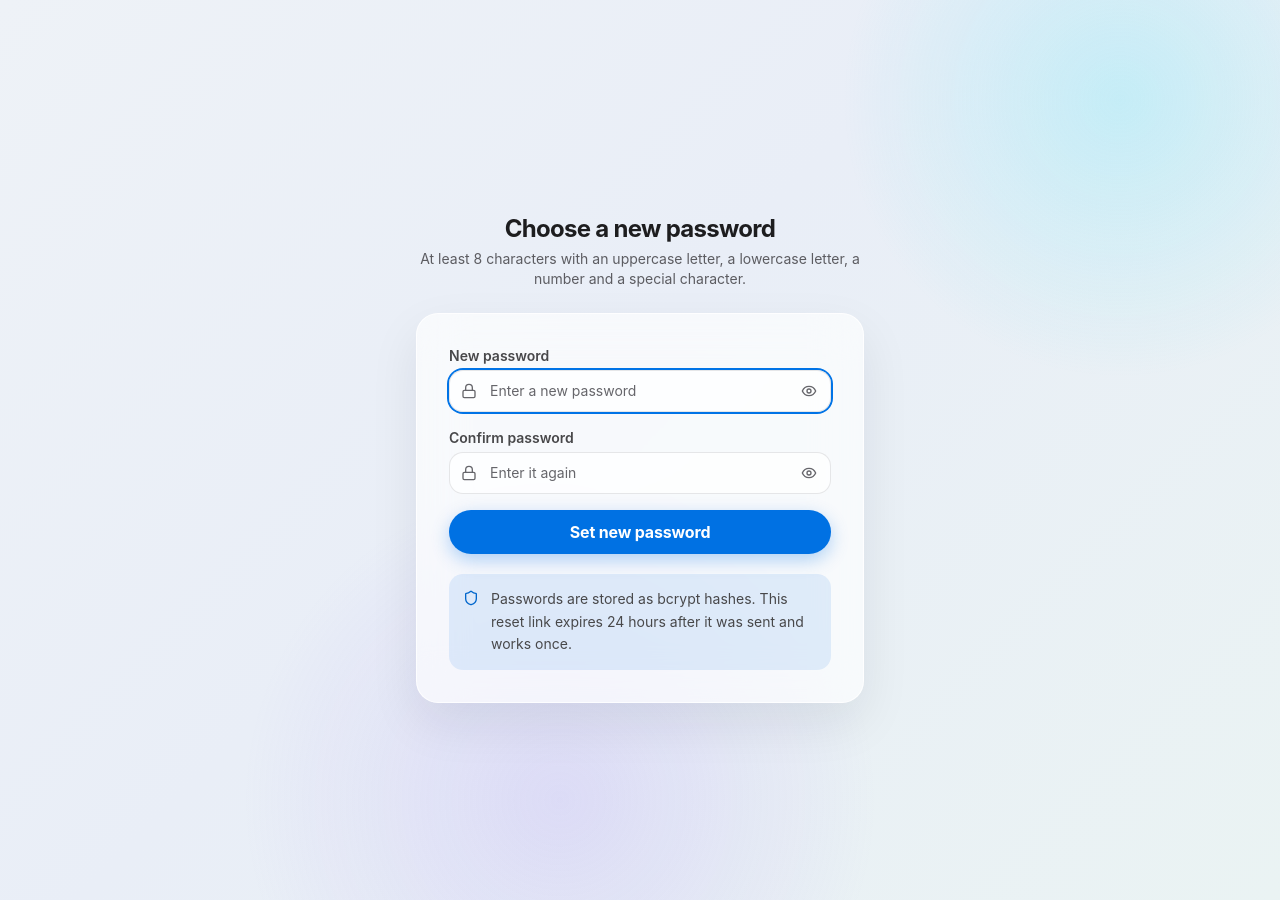
it: reset password page readability › renders no text below 14px once the password is updated
The image size is (1280, 900).
Step 1. Type "Aa1!aaaa" into the password field labelled "New password" → (640, 391), box top-left (449, 370), bottom-right (831, 412)
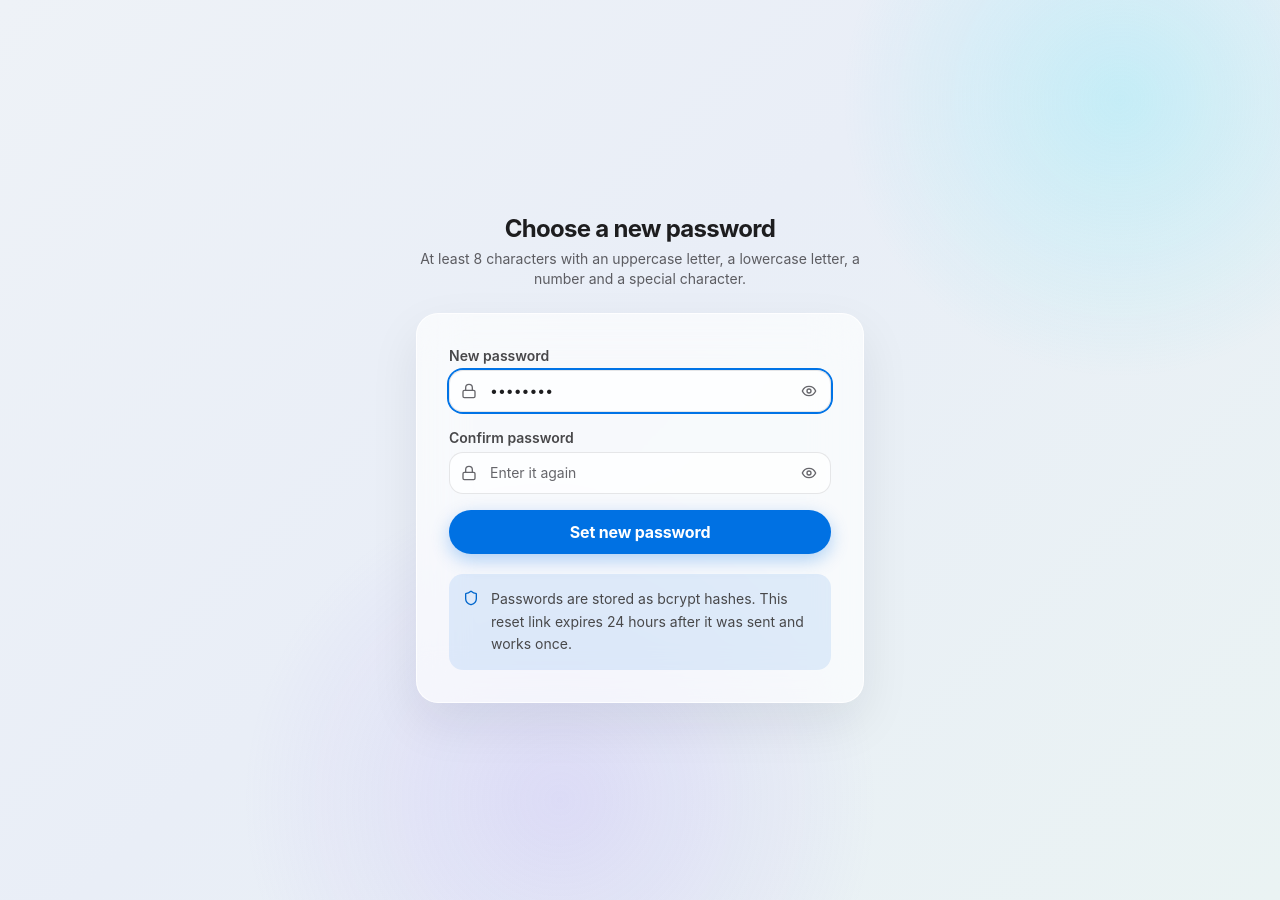
Step 2. Type "Aa1!aaaa" into the password field labelled "Confirm password" → (640, 473), box top-left (449, 452), bottom-right (831, 494)
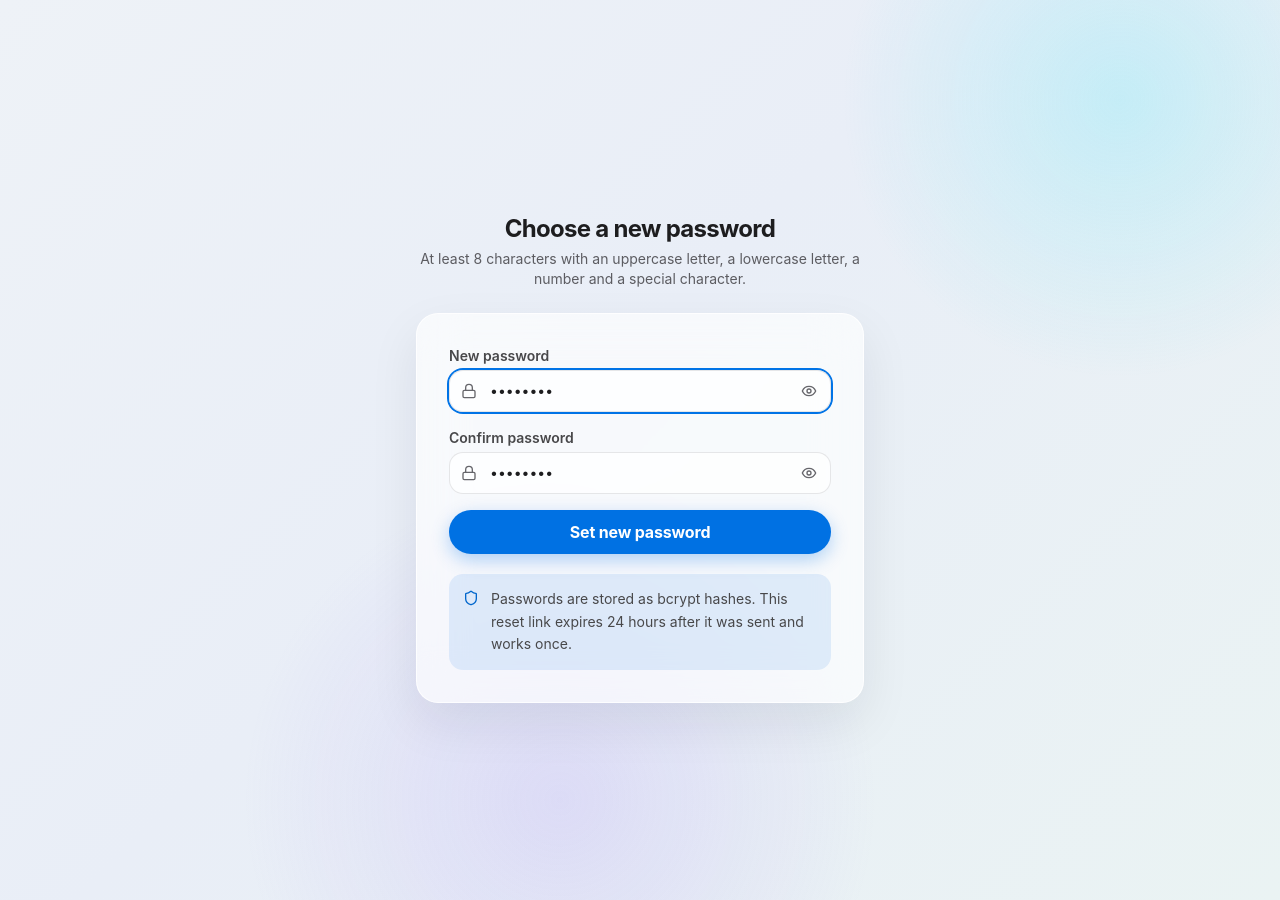
Step 3. Click the button "Set new password" → (640, 532), box top-left (449, 510), bottom-right (831, 554)
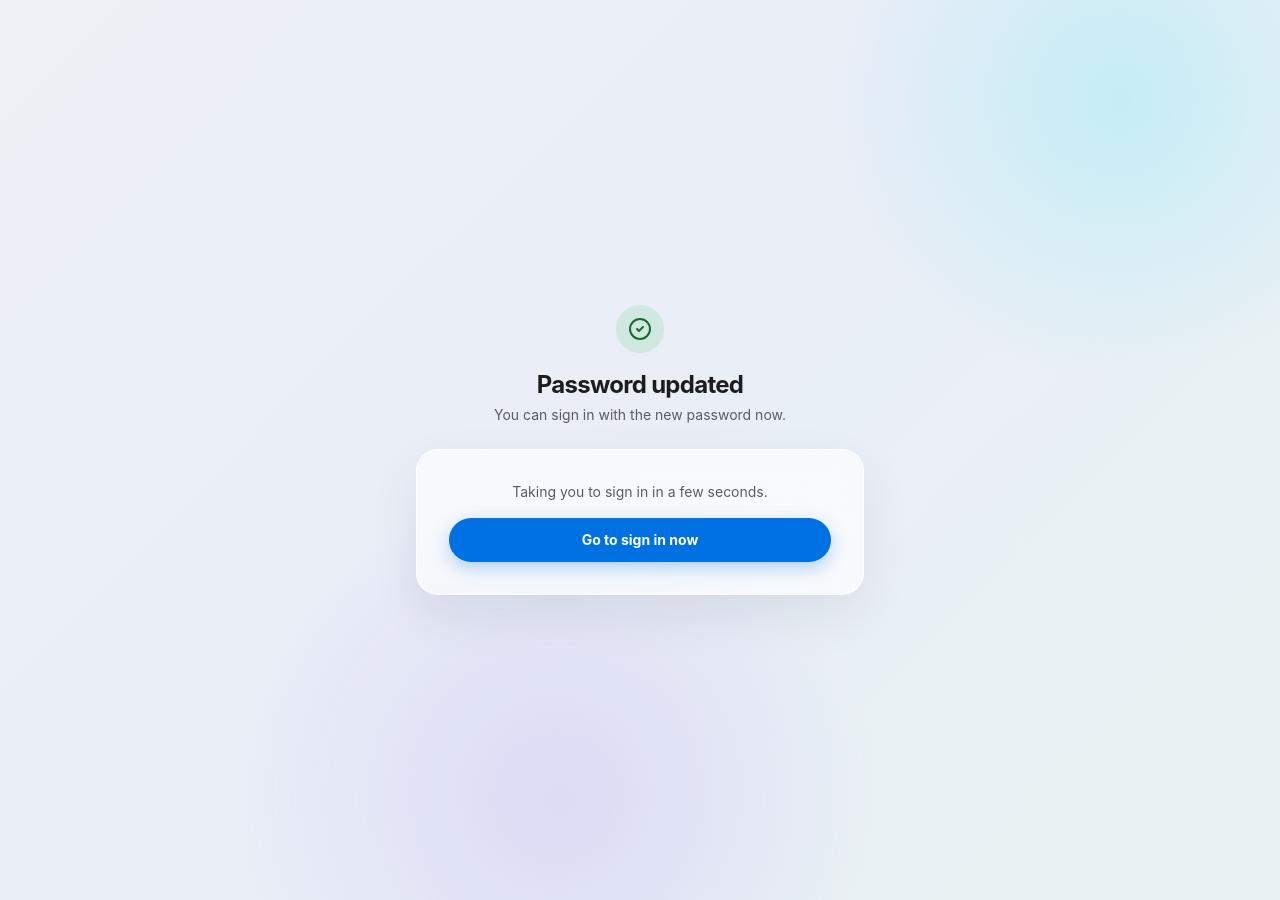
Now the text "Taking you to sign in in a few seconds." is shown, box top-left (512, 483), bottom-right (768, 500)
